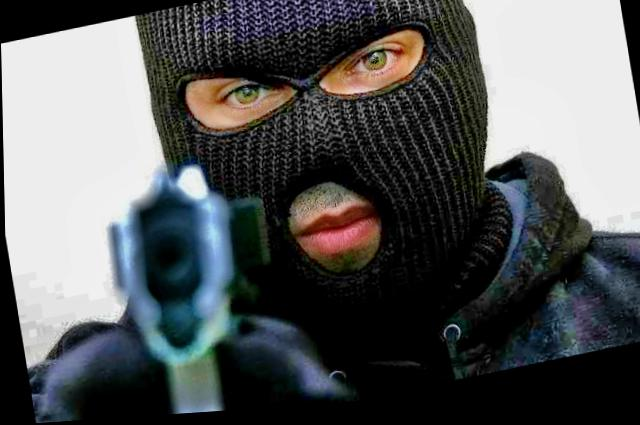pistol: (104, 150, 256, 420)
